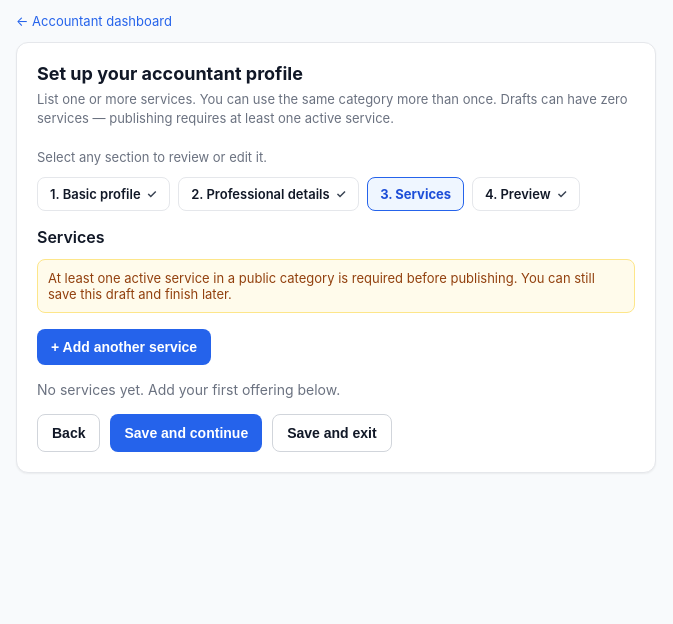
Test: category loading failure shows retry
The image size is (673, 624).
Click the button "+ Add another service" at (124, 347), box [37,329,211,365]
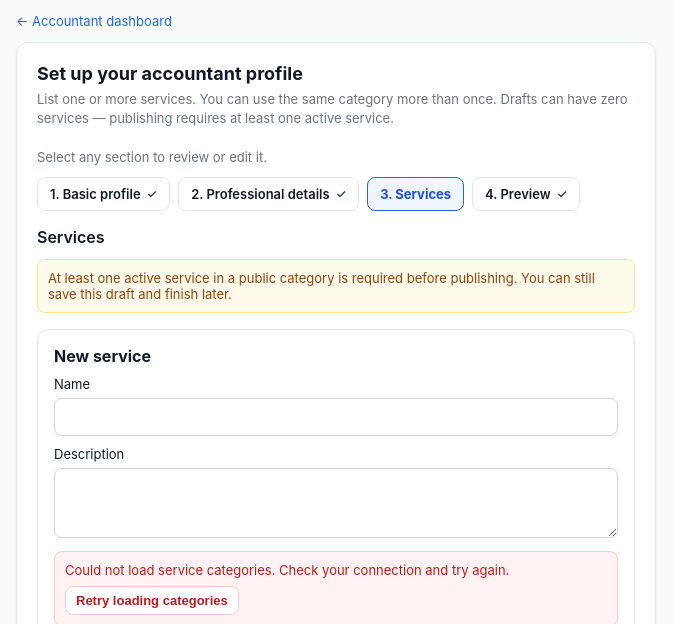
expect the text "Could not load service categories" is shown: met, box [65,562,509,578]
Click the button "Retry loading categories" at (152, 601), box [65,586,239,615]
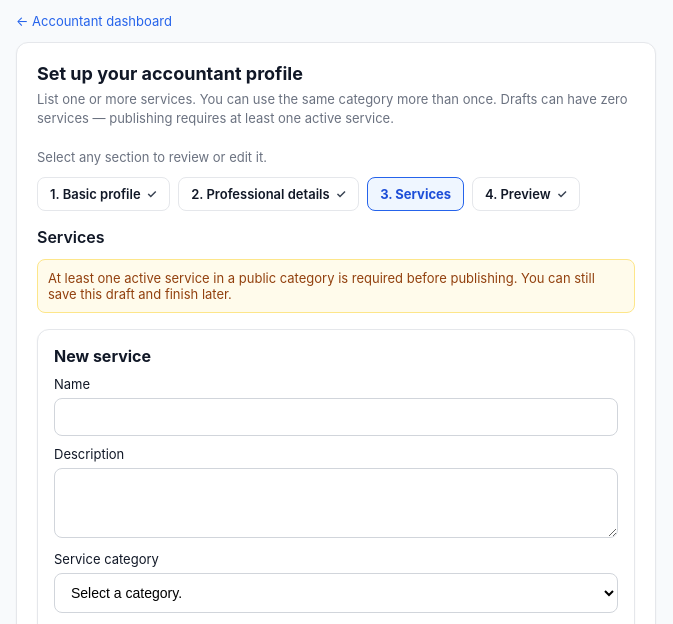
expect the dropdown labelled "Service category" is enabled: met, box [54,573,618,613]
